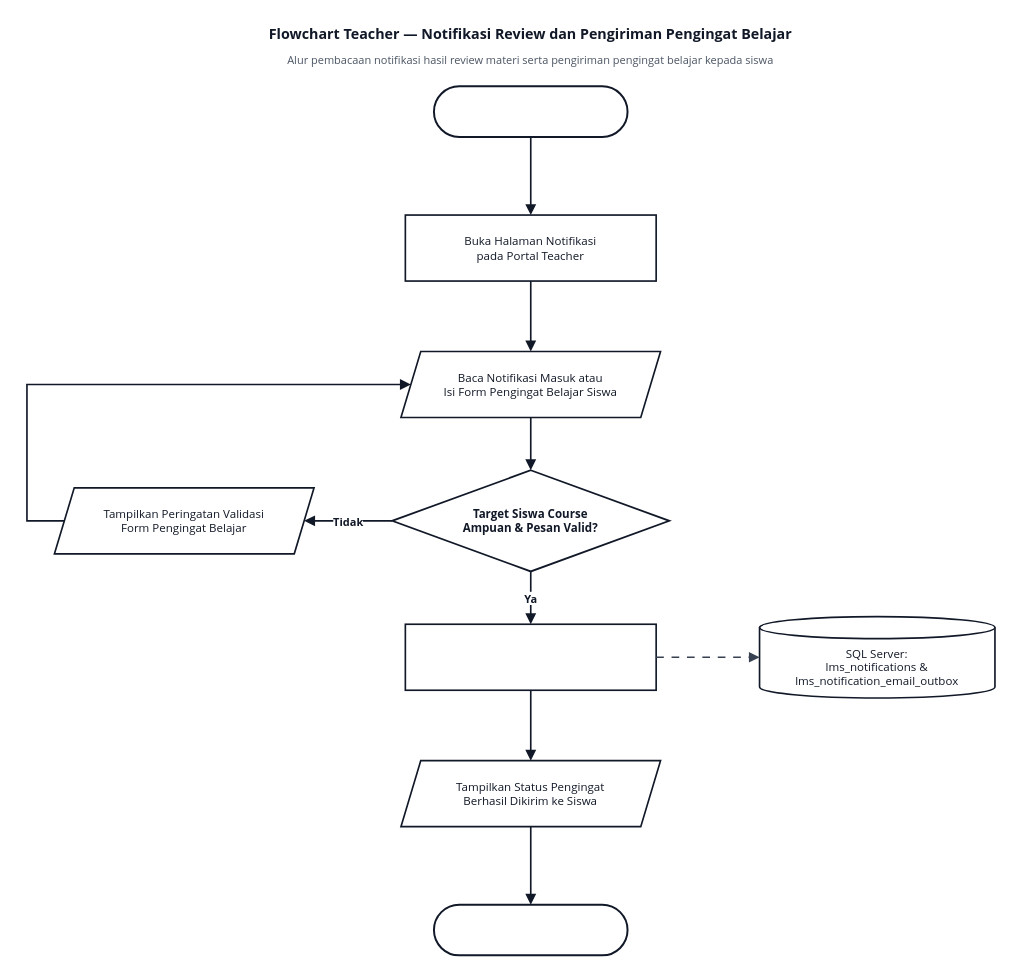
Image size: 1015x975. Some labels were removed from this diagram. Each missing label, with the centre of its shape:
Mulai: the point at 530,111
Selesai: the point at 530,929
Simpan Notifikasi Pengingat & Antrekan Pengiriman Email: the point at 530,657
